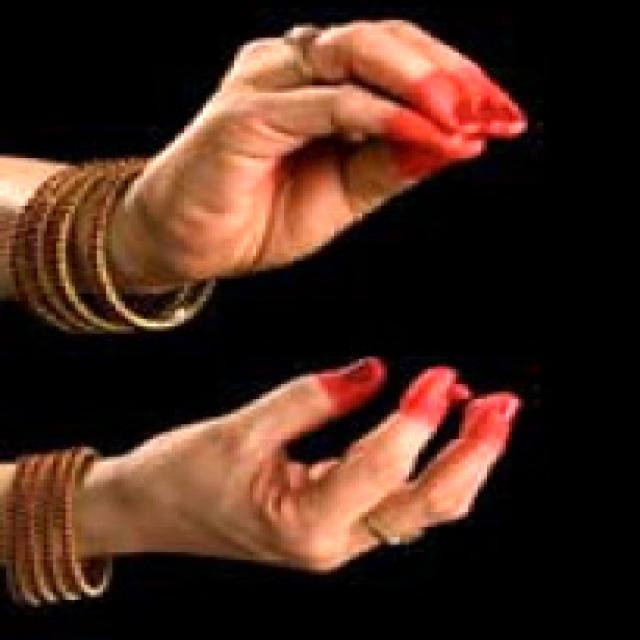Mukula: (22, 12, 600, 352)
Samdamsha: (24, 349, 574, 615)
